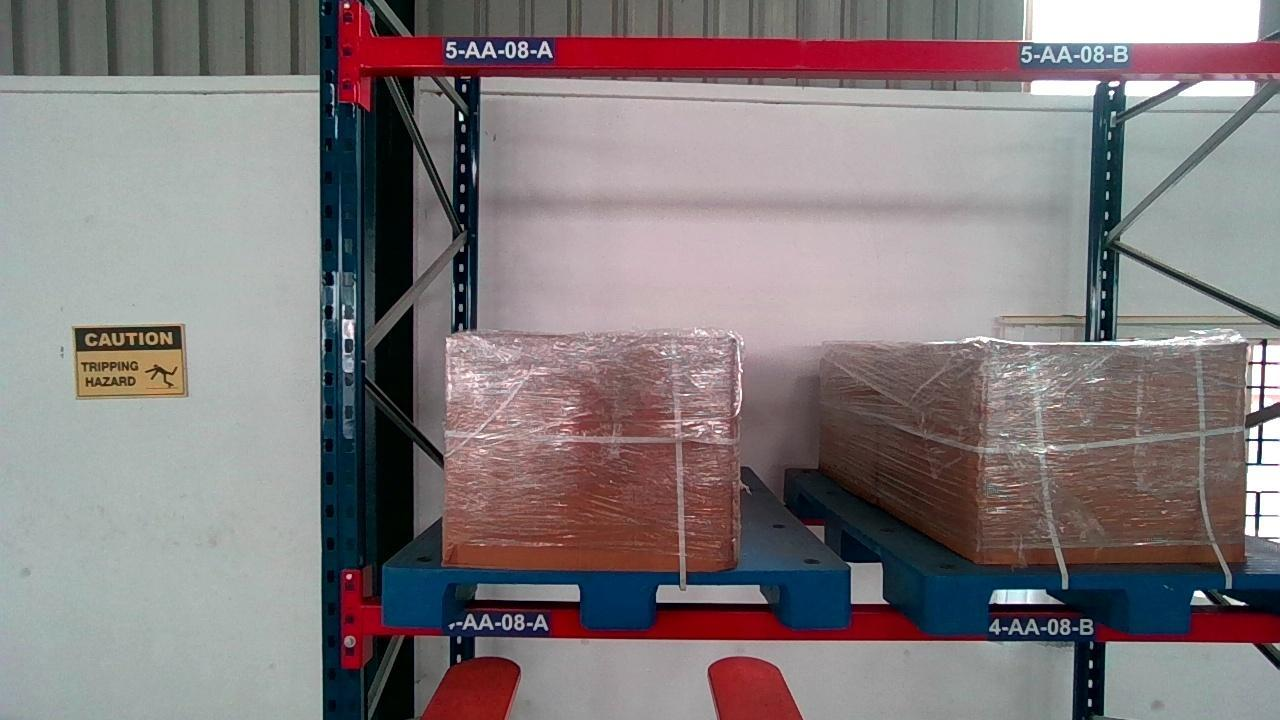h_rack: (363, 37, 1280, 73), (364, 607, 1279, 640)
small_pallet: (382, 568, 847, 628), (932, 575, 1280, 633)
